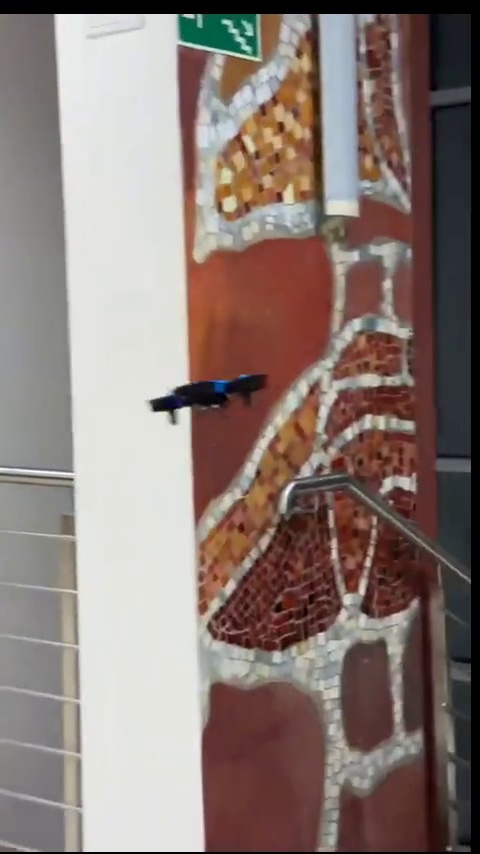drone: (153, 376, 271, 423)
